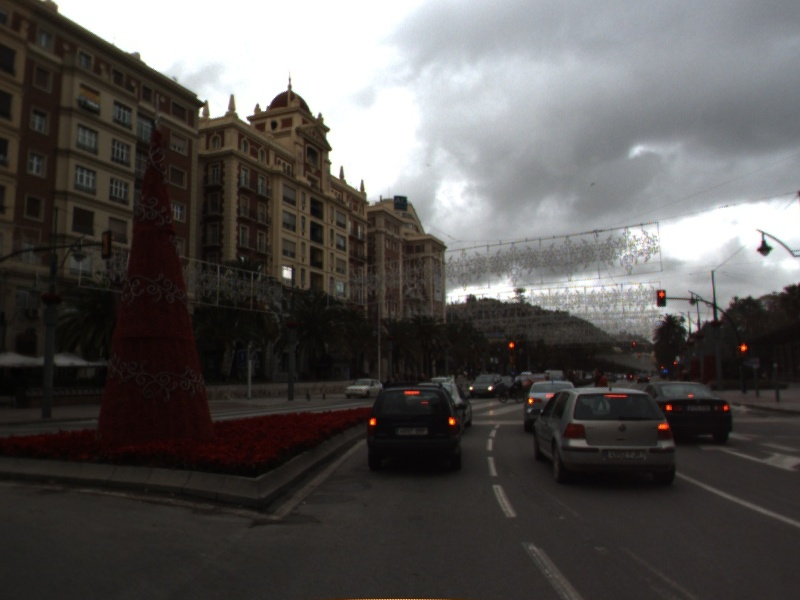STRAIGHT_RIGHT: (697, 439, 800, 474)
